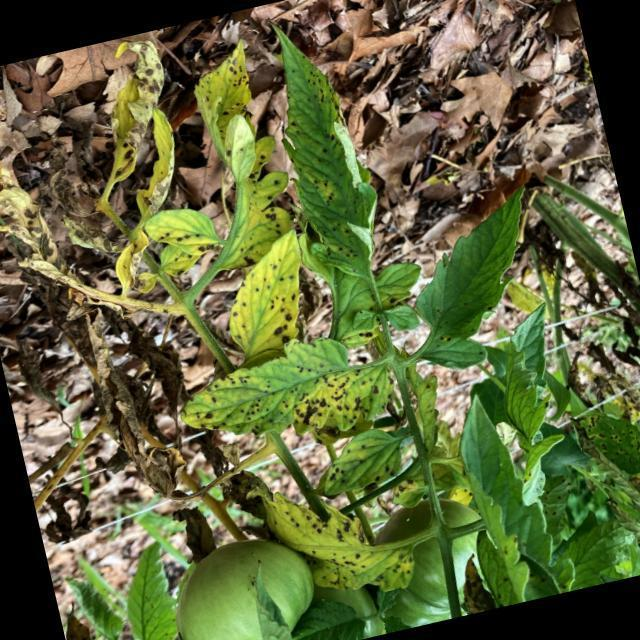Septoria: (176, 332, 398, 462), (215, 240, 313, 358), (288, 130, 373, 266), (314, 429, 414, 499), (152, 212, 217, 262)
